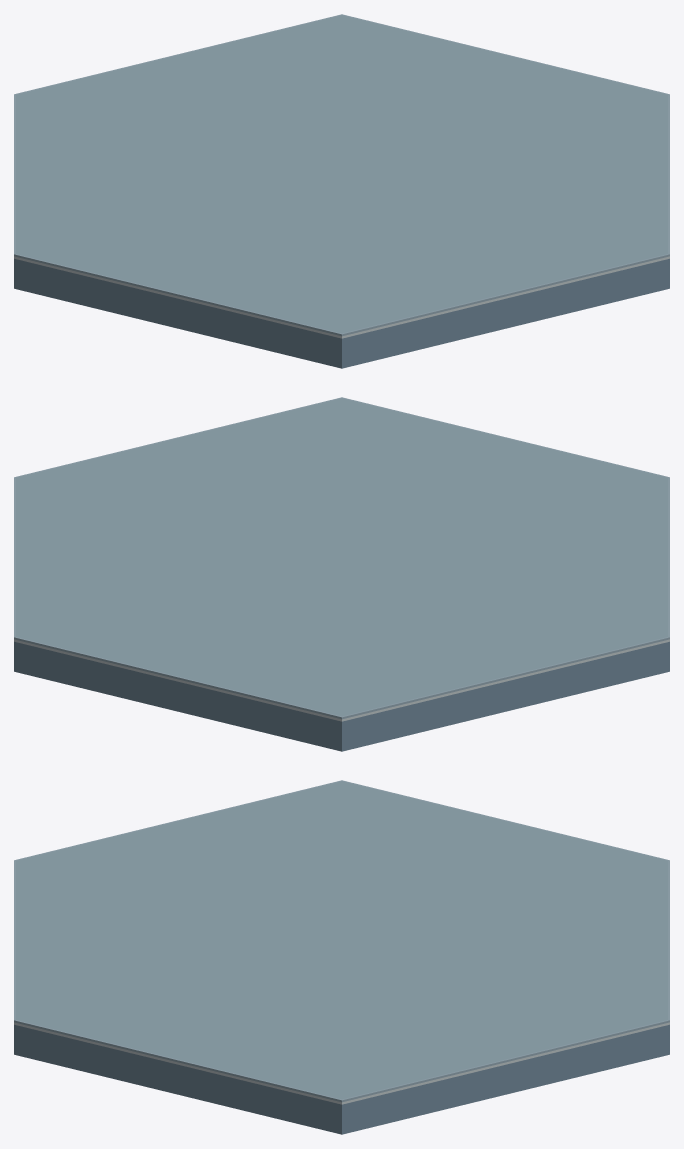
File: campus_base_hex_v01.glb
3 views of the same model, one above another, from view 1: azimuth 30°, elevation 25°; view 2: azimuth 150°, elevation 25°; view 3: azimuth 270°, elevation 25° (orthographic).
Visible parts, largest first — view 1: campus_base_hex; view 2: campus_base_hex; view 3: campus_base_hex.
Boxes of the visible parts, box(x1,y1,x2,y2) form: campus_base_hex: box(14, 14, 669, 368); campus_base_hex: box(14, 397, 669, 751); campus_base_hex: box(14, 780, 669, 1134).
Size of the model in its own units: 24 by 1.2 by 20.78.
